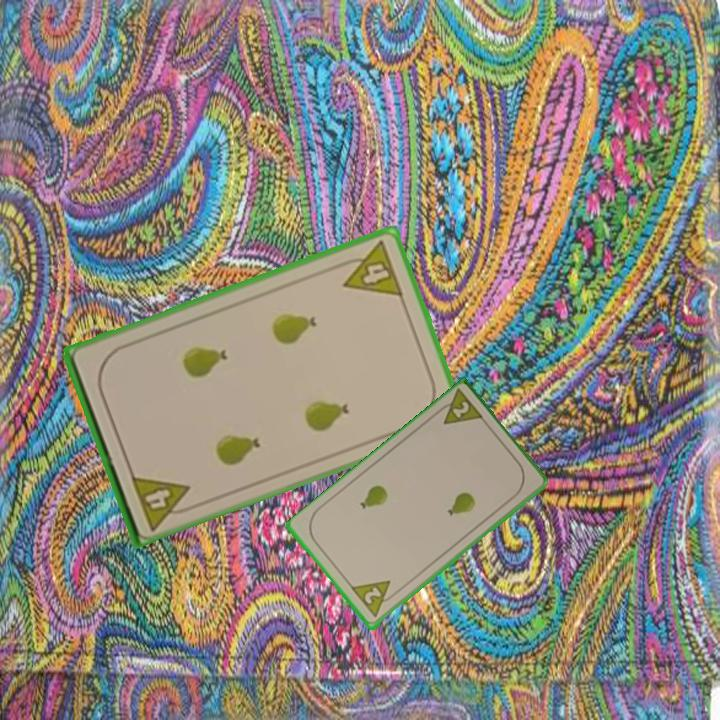2p: (431, 386, 487, 428), (348, 577, 401, 621)
4p: (333, 237, 406, 300), (127, 471, 198, 533)
